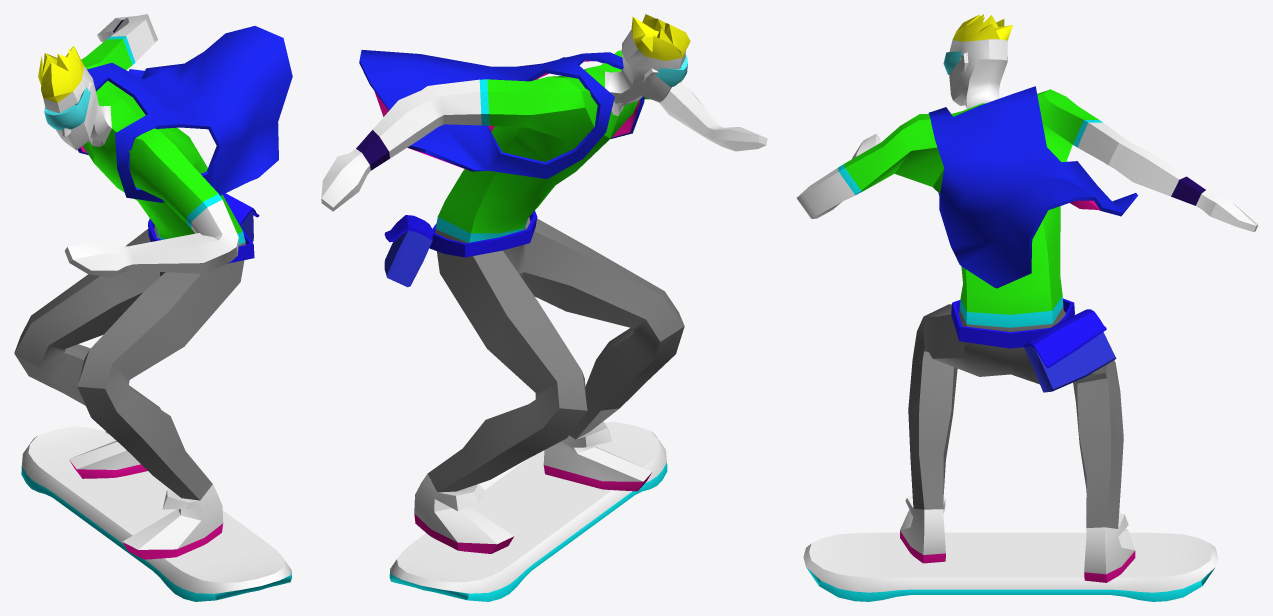
File: Rad_BackPivot.FBX
3 views of the same model, side by side, from view 1: azimuth 30°, elevation 25°; view 2: azimuth 150°, elevation 25°; view 3: azimuth 270°, elevation 25° (orthographic). The views are drawn at different scales.
Visible parts, largest first — view 1: Box006; view 2: Box006; view 3: Box006.
Boxes of the visible parts, box(x1,y1,x2,y2) form: Box006: box(14, 14, 292, 601); Box006: box(321, 14, 767, 601); Box006: box(796, 14, 1258, 601).
Bounding box in the file's own units: 92.06 × 148 × 122.
